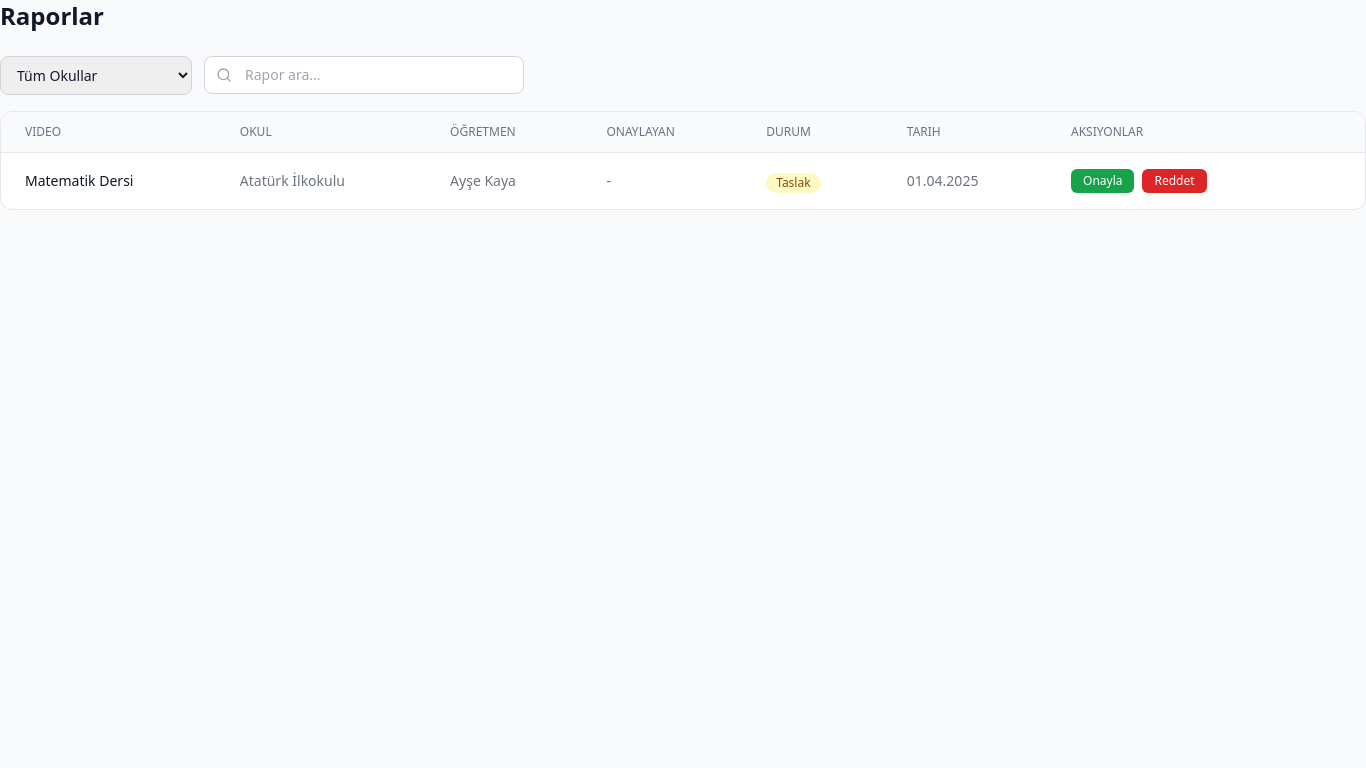
Test case: ReportsPage › Reddet modalı › Boş gerekçe ile gönderilirse hata mesajı gösterir
What coordinates should you click on to do the following:
click the button "Reddet"
I would click on:
 (1175, 181)
Its box is [1142,169,1207,193].
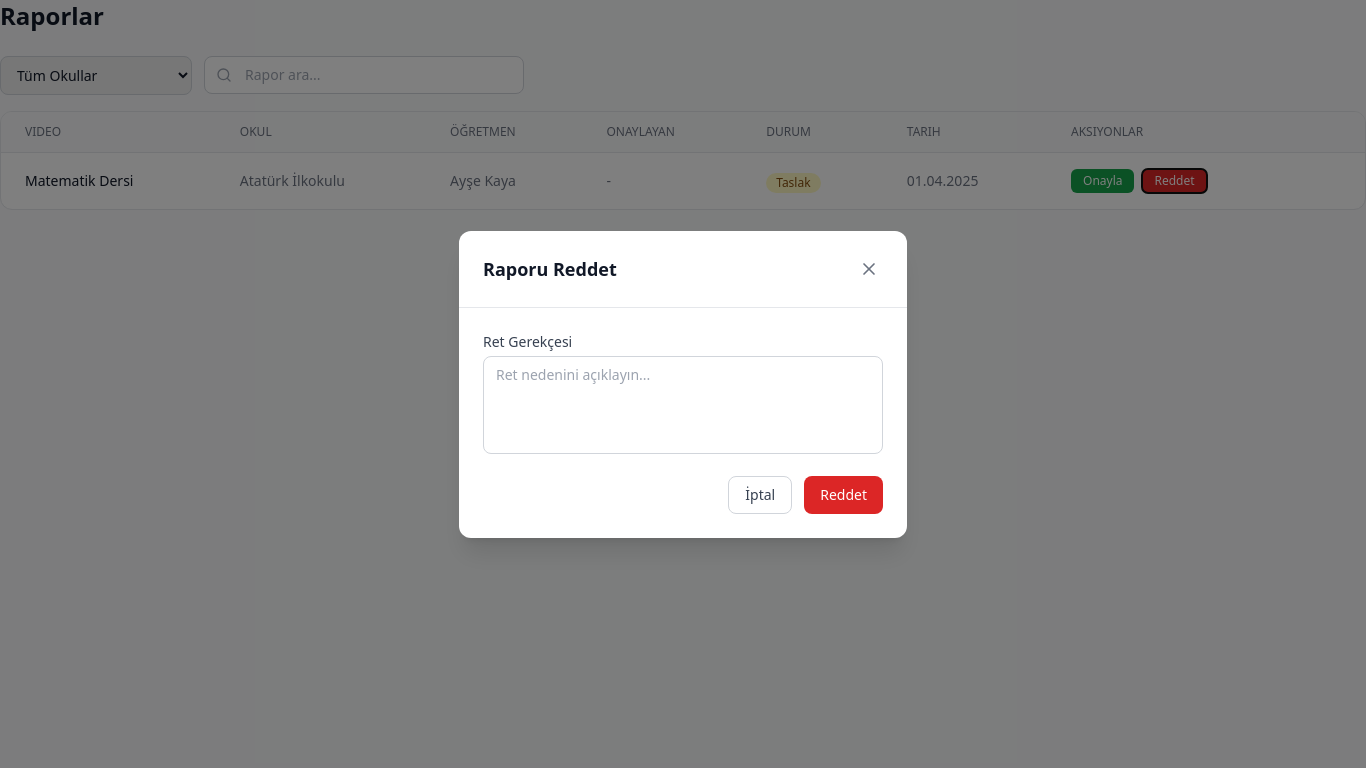
# Modal içindeki Reddet butonu (ikinci tane)
What coordinates should you click on to do the following:
click the button "Reddet"
I would click on:
 (844, 494)
Its box is [804,476,883,514].
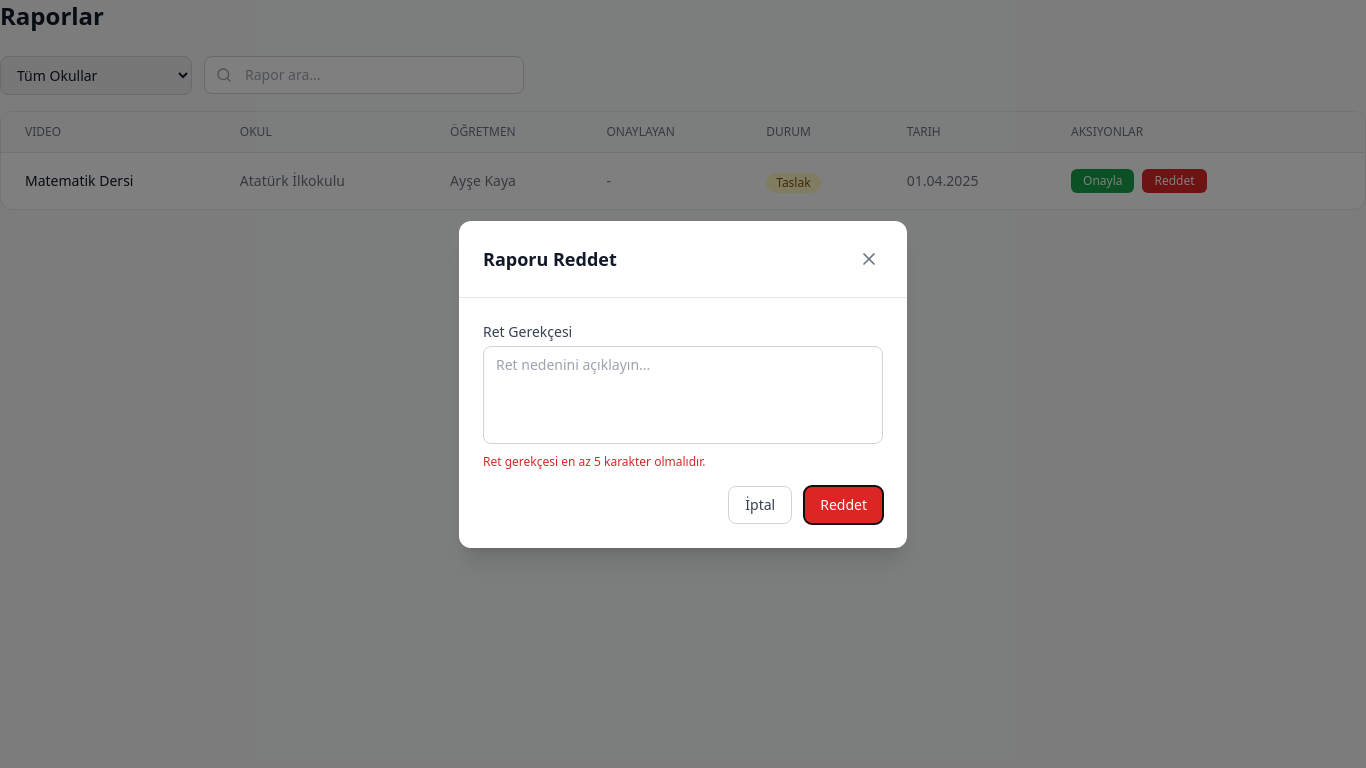
Result: the text "Ret gerekçesi en az 5 karakter olmalıdır." is shown at [483,452,705,470]
